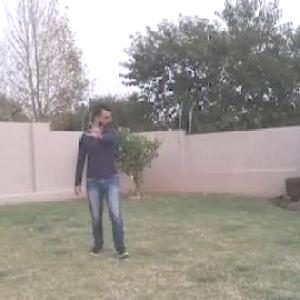follow_hand: (83, 117, 108, 140)
